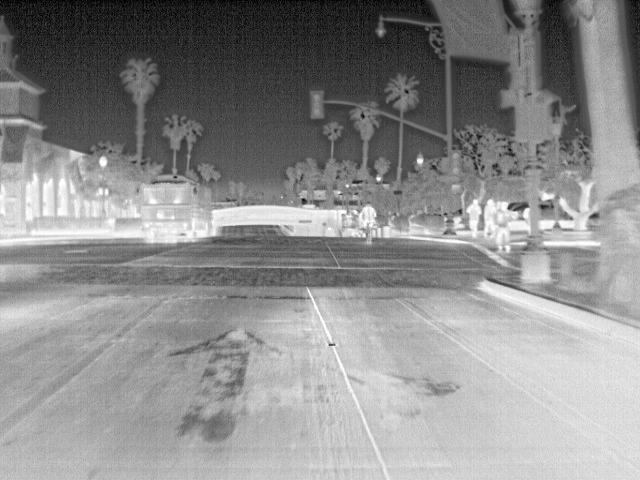person: (480, 198, 498, 239), (495, 209, 511, 255), (466, 197, 483, 237), (361, 200, 377, 234)
